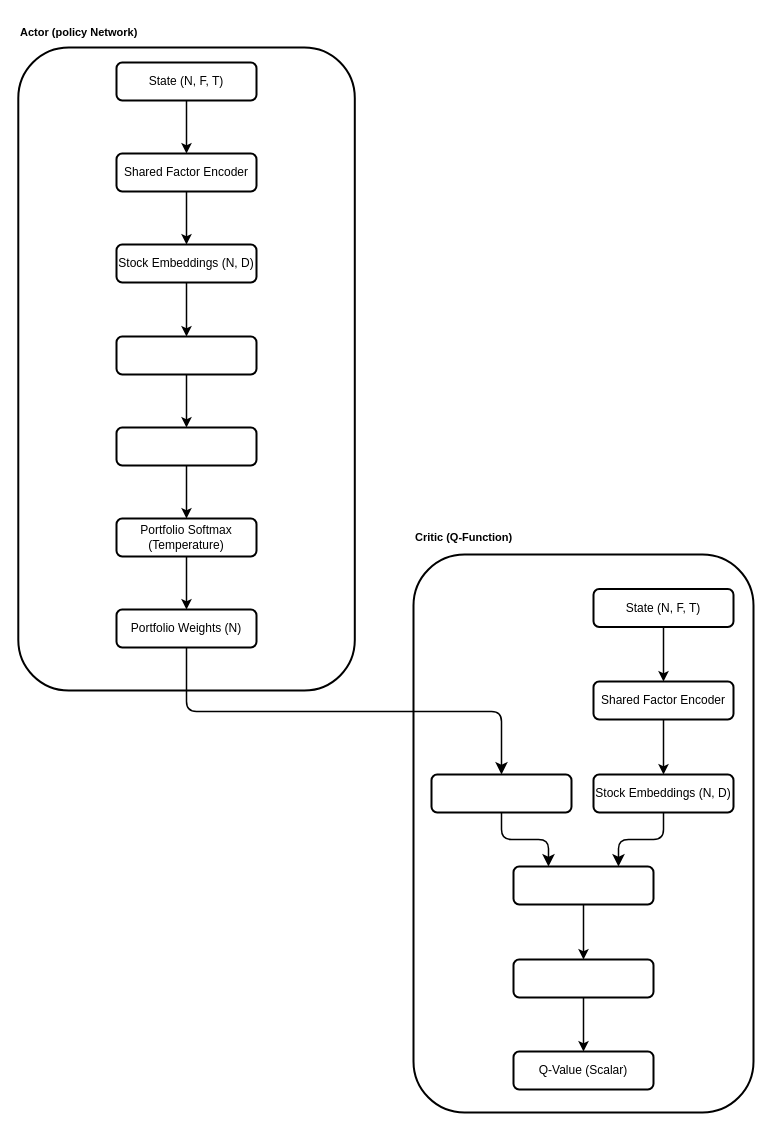
This 772x1130 diagram has some shape labels left out. The shapes that lost their labels are listed below. From the top down, each one's centre as x and y in pixels, then its label:
At (x=186, y=355): "Score Head (Shared MLP)".
At (x=186, y=446): "Raw Scores (N, 1)".
At (x=501, y=793): "Action Input (N)".
At (x=583, y=885): "Concat (Emb + Action)".
At (x=583, y=978): "Global Pooling (Deep Sets)".
